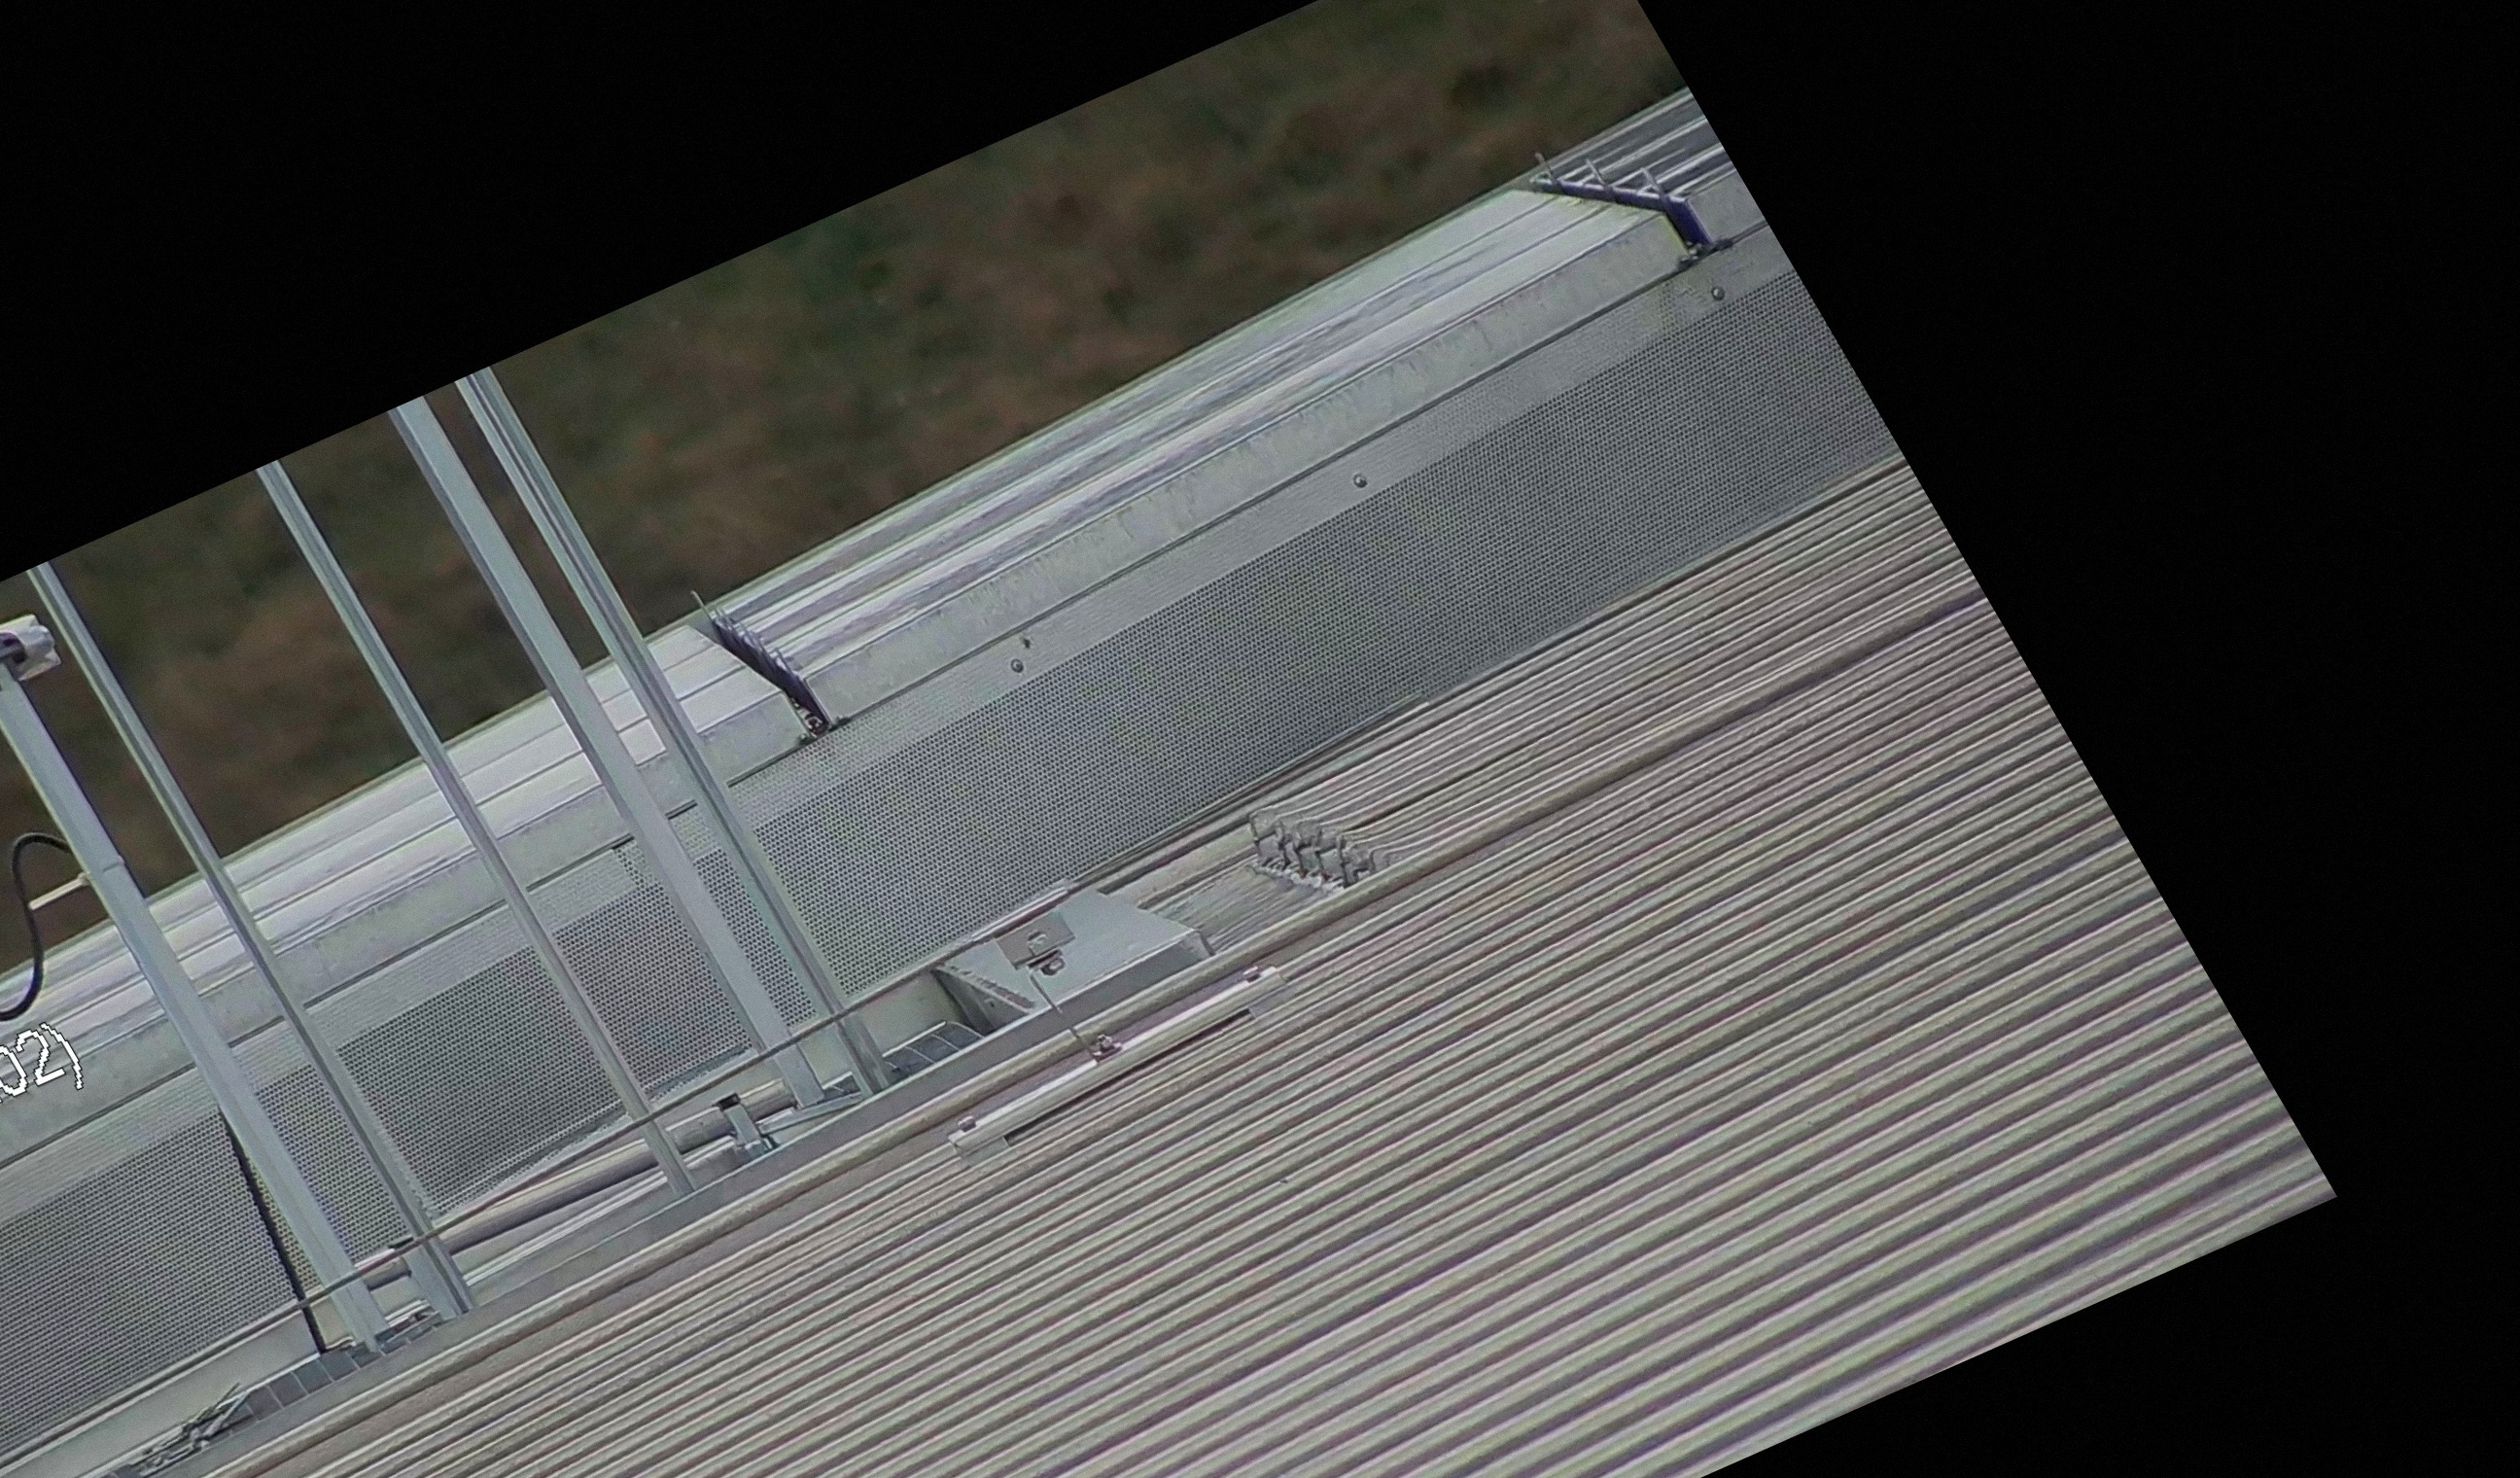Other: (656, 551, 851, 767)
